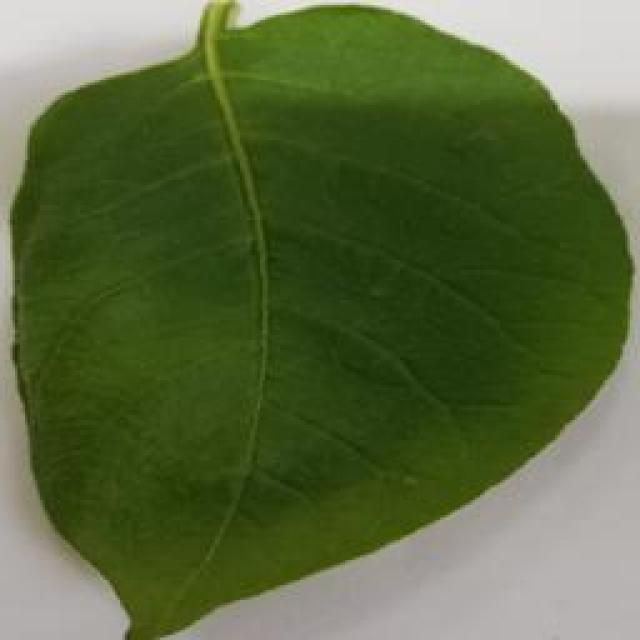Potato_Healthy: (10, 5, 621, 634)
